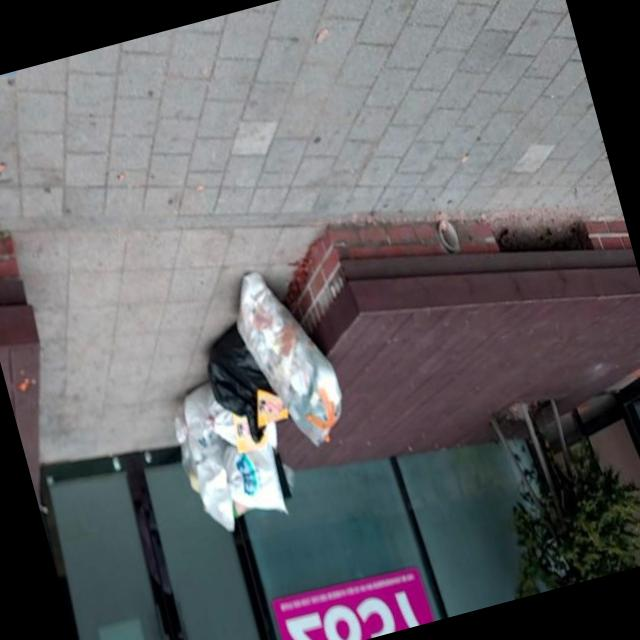high trash: (174, 272, 341, 531)
